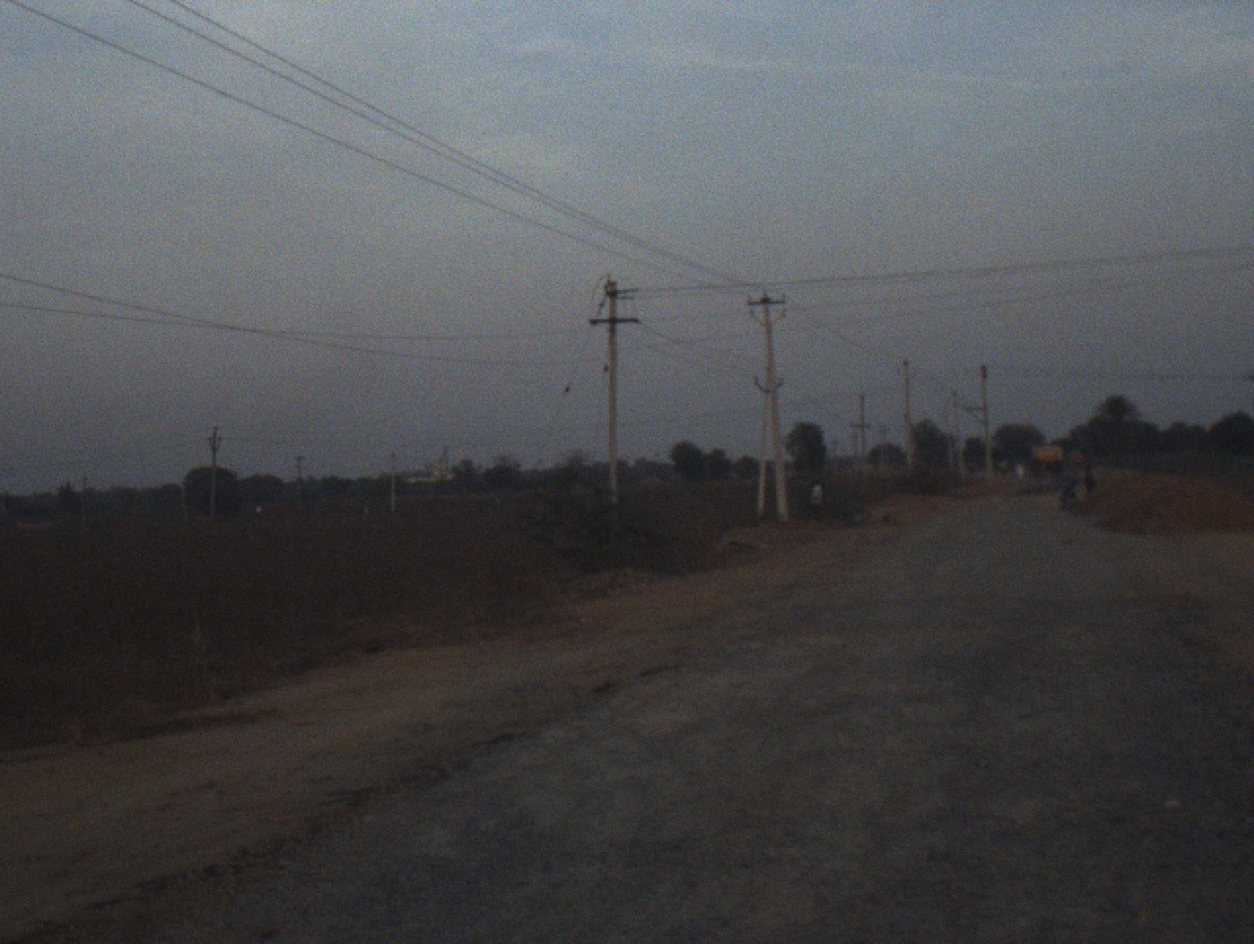motorcycle: (1059, 472, 1081, 509)
person: (808, 476, 823, 508), (1081, 463, 1094, 488)
truck: (1023, 440, 1066, 479)
